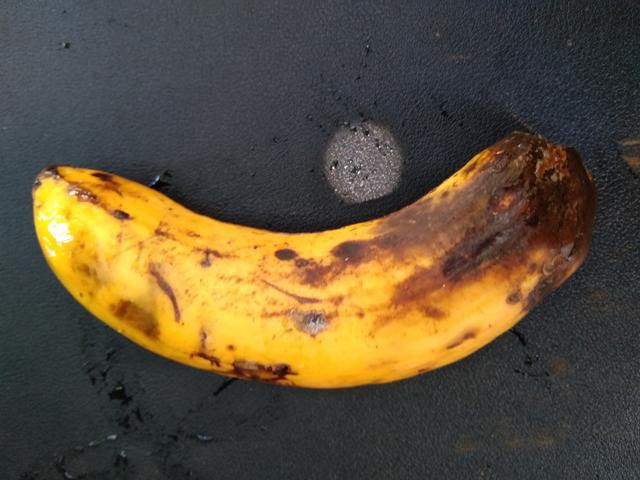rotten: (32, 116, 610, 418)
